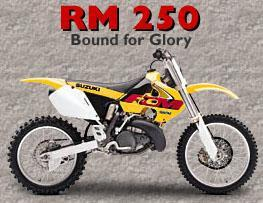motorcycle: (1, 41, 263, 200)
